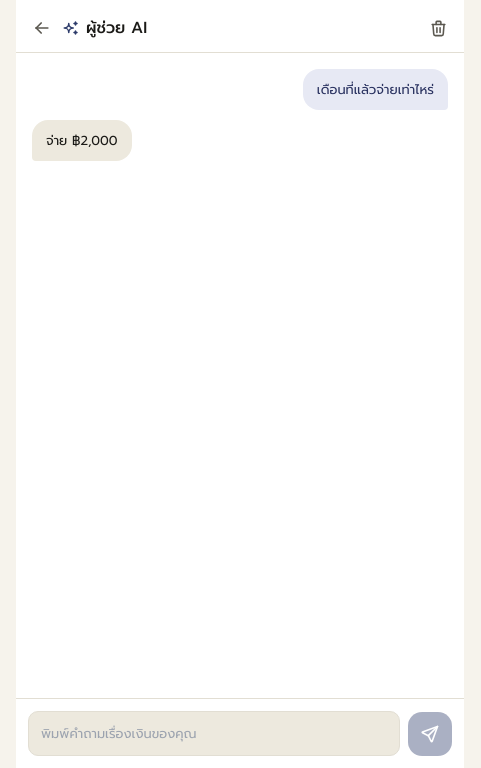
Test: persistence (task 7) › a reloaded transcript sent as history to askAssistant carries ONLY role + text
The width and height of the screenshot is (481, 768).
Expected: the text "จ่าย ฿2,000" is shown, top-left (32, 120), bottom-right (132, 161)
Type "แล้วเดือนก่อนหน้าล่ะ" into the text box labelled "พิมพ์คำถาม" at (214, 733), box top-left (28, 710), bottom-right (400, 756)
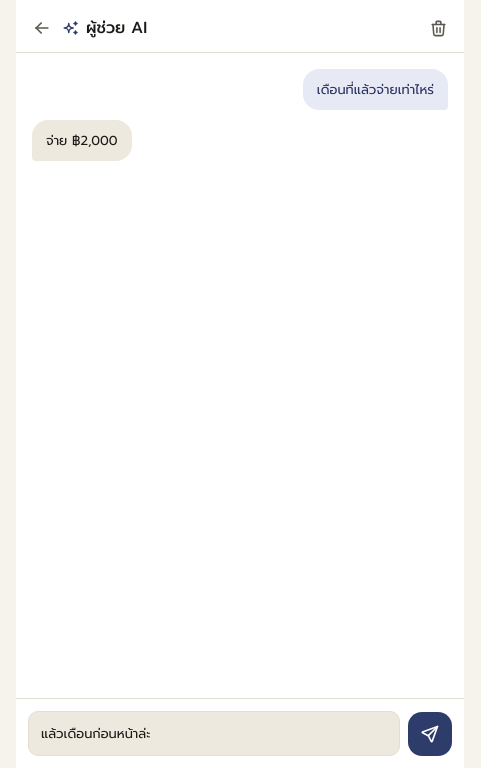
Click the button named "ส่งคำถาม" at (430, 734), box top-left (408, 712), bottom-right (452, 756)
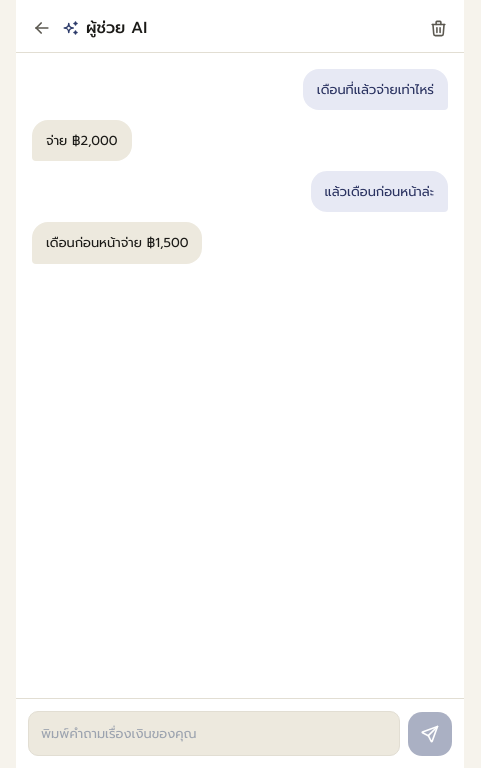
Expected: the text "เดือนก่อนหน้าจ่าย ฿1,500" is shown, top-left (32, 222), bottom-right (202, 264)
